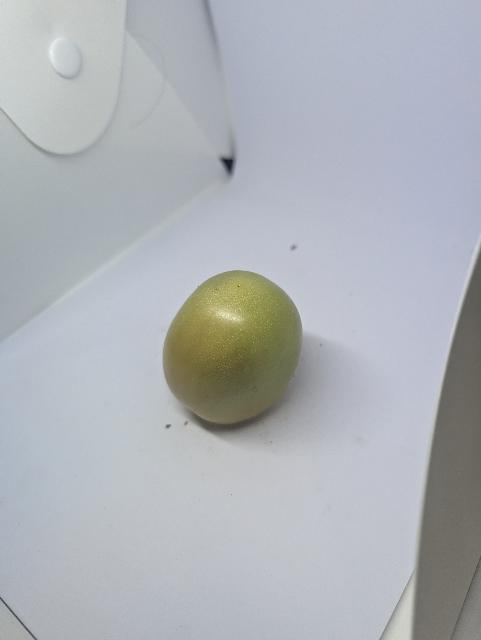green: (163, 271, 302, 424)
